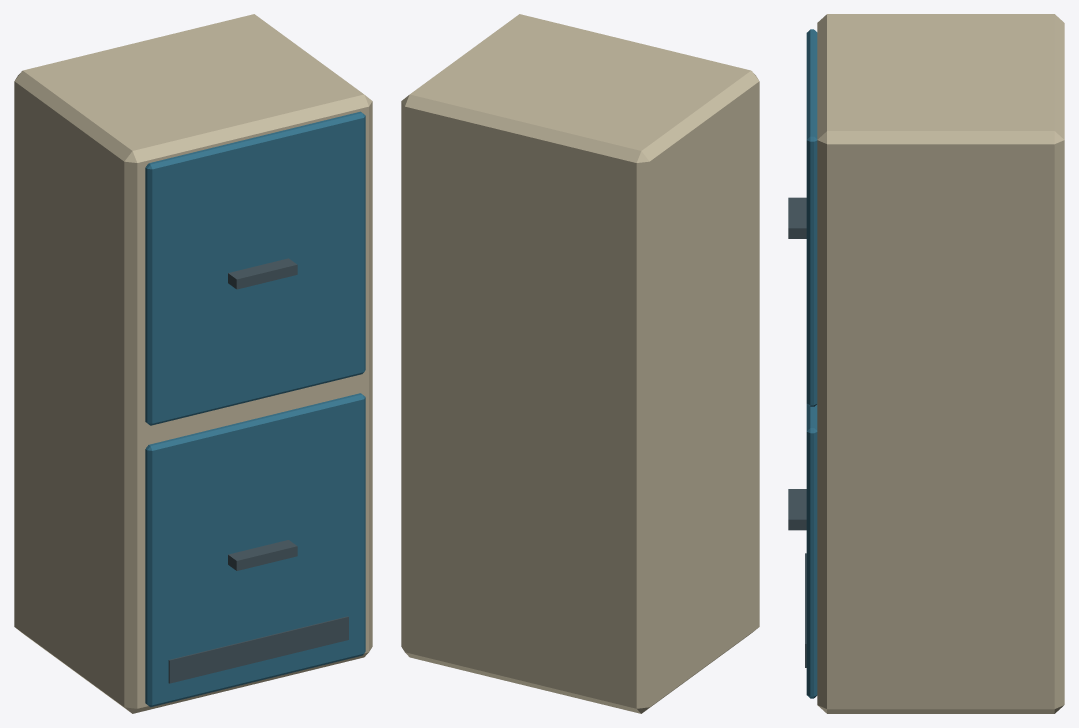
File: refrigerator.glb
3 views of the same model, side by side, from view 1: azimuth 30°, elevation 25°; view 2: azimuth 150°, elevation 25°; view 3: azimuth 270°, elevation 25° (orthographic). The views are drawn at different scales.
Parts seen in each view (by area): view 1: refrigerator; view 2: refrigerator; view 3: refrigerator.
Part boxes in pixels (x1,y1,x2,y2): refrigerator: (14, 14, 372, 713); refrigerator: (401, 14, 759, 713); refrigerator: (788, 14, 1064, 713).
Bounding box in the file's own units: 0.9 × 1.95 × 0.8375.
